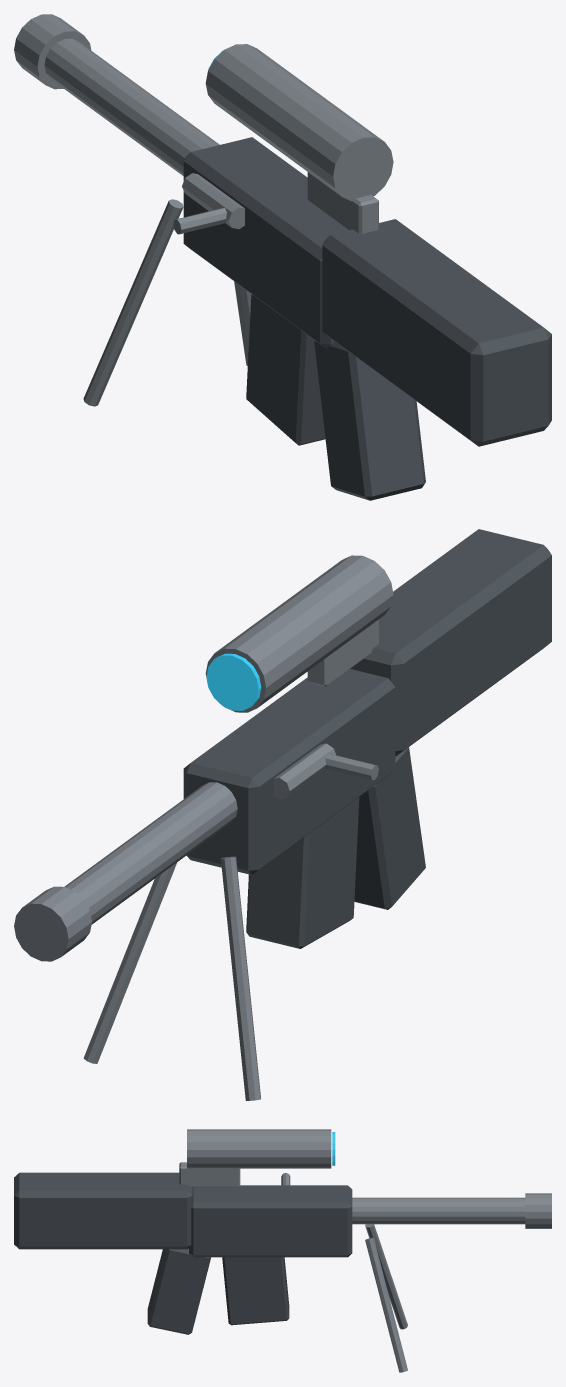
File: WPN_Rifle_Sniper_A_FP_v01.glb
The picture shows the model from 3 angles, top to bottom: view 1: azimuth 30°, elevation 25°; view 2: azimuth 150°, elevation 25°; view 3: azimuth 270°, elevation 25°; orthographic projection. The views are drawn at different scales.
Parts seen in each view (by area): view 1: MESH_Weapon, MESH_Magazine, MESH_Bipod, MESH_MuzzleAssembly, MESH_Bolt, MESH_BoltHandle; view 2: MESH_Weapon, MESH_Magazine, MESH_Bipod, MESH_MuzzleAssembly, MESH_ScopeLens, MESH_Bolt, MESH_BoltHandle; view 3: MESH_Weapon, MESH_Magazine, MESH_Bipod, MESH_MuzzleAssembly.
Part boxes in pixels (x1=…): MESH_Weapon: x1=44, y1=38, x2=551, y2=500; MESH_Magazine: x1=246, y1=294, x2=325, y2=445; MESH_Bipod: x1=83, y1=199, x2=251, y2=406; MESH_MuzzleAssembly: x1=14, y1=14, x2=91, y2=89; MESH_Bolt: x1=182, y1=173, x2=244, y2=229; MESH_BoltHandle: x1=173, y1=208, x2=226, y2=234; MESH_Weapon: x1=64, y1=529, x2=551, y2=924; MESH_Magazine: x1=246, y1=797, x2=359, y2=948; MESH_Bipod: x1=83, y1=856, x2=260, y2=1100; MESH_MuzzleAssembly: x1=14, y1=886, x2=91, y2=961; MESH_ScopeLens: x1=206, y1=653, x2=261, y2=710; MESH_Bolt: x1=273, y1=743, x2=335, y2=799; MESH_BoltHandle: x1=325, y1=754, x2=378, y2=779; MESH_Weapon: x1=14, y1=1129, x2=525, y2=1334; MESH_Magazine: x1=222, y1=1257, x2=289, y2=1325; MESH_Bipod: x1=365, y1=1224, x2=407, y2=1372; MESH_MuzzleAssembly: x1=525, y1=1193, x2=551, y2=1228.
Bounding box in the file's own units: 0.3216 × 0.6363 × 1.42.
